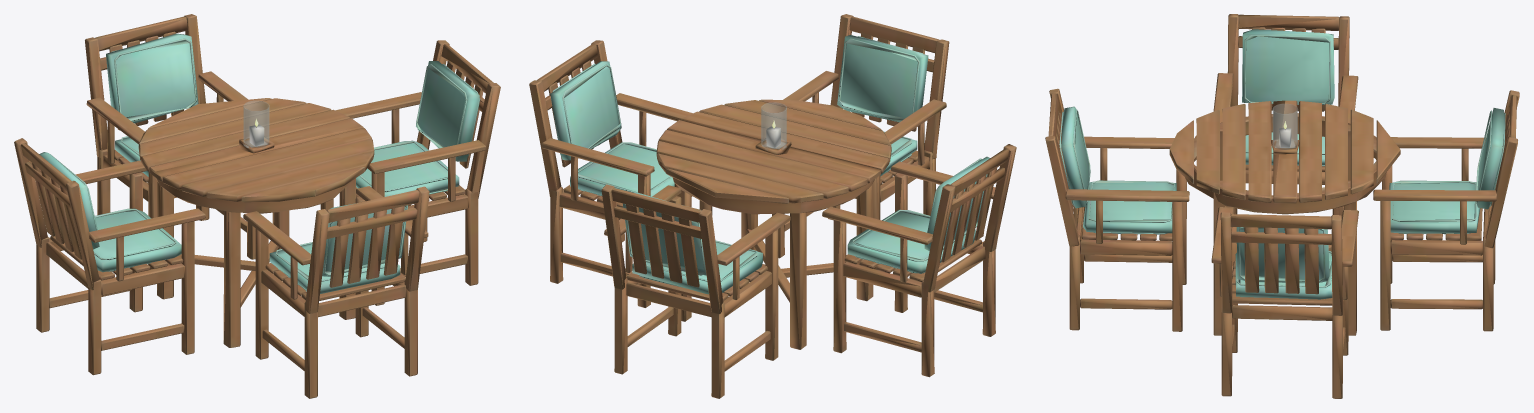
The model's file is patio-set.glb.
3 views of the same model, side by side, from view 1: azimuth 30°, elevation 25°; view 2: azimuth 150°, elevation 25°; view 3: azimuth 270°, elevation 25° (orthographic). The views are drawn at different scales.
Visible parts, largest first — view 1: patio-set_body, patio-set_lantern_glass; view 2: patio-set_body, patio-set_lantern_glass; view 3: patio-set_body, patio-set_lantern_glass.
Part boxes in pixels (x1,y1,x2,y2): patio-set_body: (14, 14, 500, 398); patio-set_lantern_glass: (243, 101, 269, 148); patio-set_body: (529, 14, 1016, 398); patio-set_lantern_glass: (761, 102, 786, 150); patio-set_body: (1045, 14, 1519, 398); patio-set_lantern_glass: (1272, 104, 1297, 149).
Size of the model in its own units: 2.12 by 0.9413 by 2.05.
Materials: 3 (1 with a texture image).
